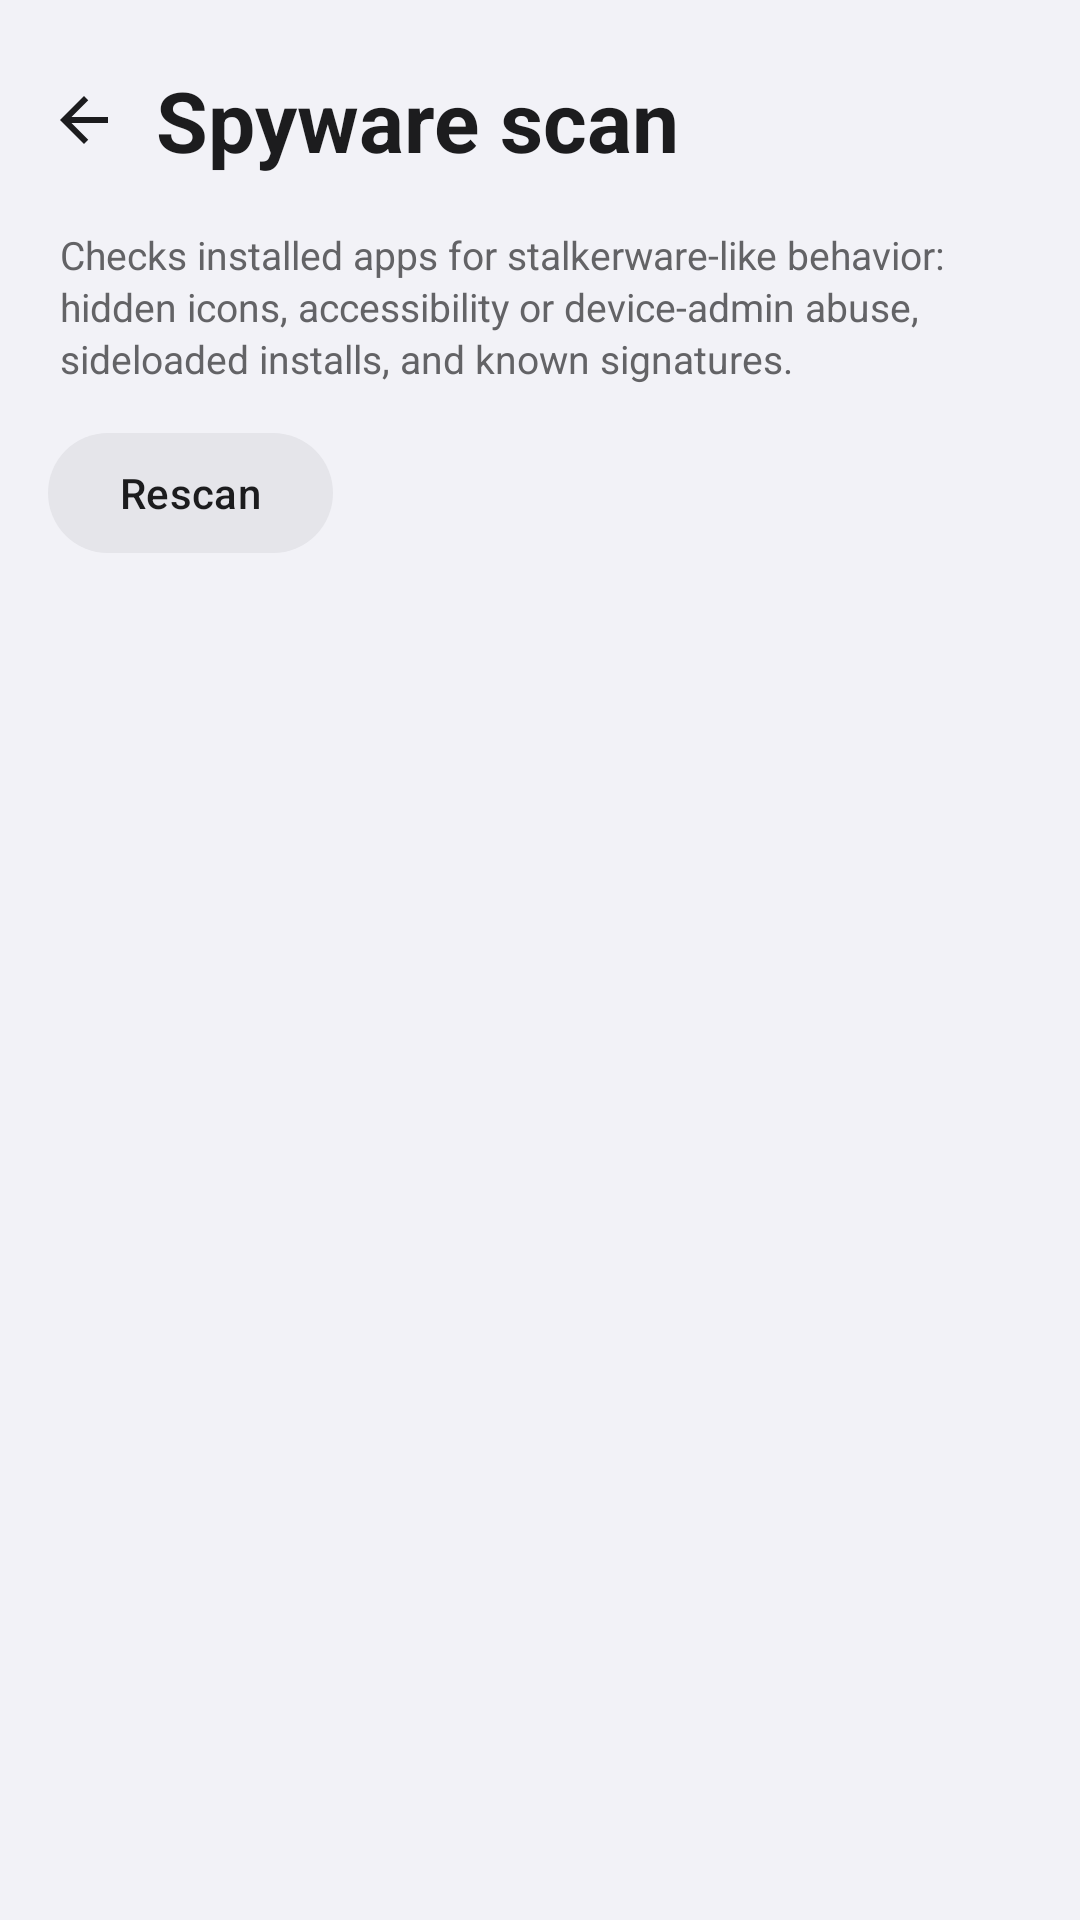

Icon click points for this 1080x1920 phone screenshot, format (x=x, y=y):
Back: (x=84, y=120)
